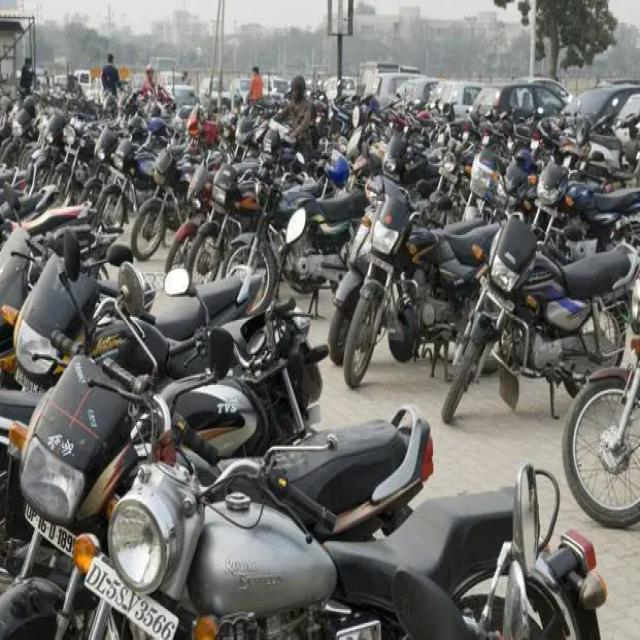Vehicles: (101, 263, 592, 640), (1, 299, 426, 640), (1, 234, 284, 495), (448, 187, 634, 423), (349, 182, 498, 389), (238, 153, 389, 301), (191, 141, 327, 272), (184, 154, 312, 282), (83, 126, 193, 240), (125, 126, 212, 242), (46, 124, 118, 196)
